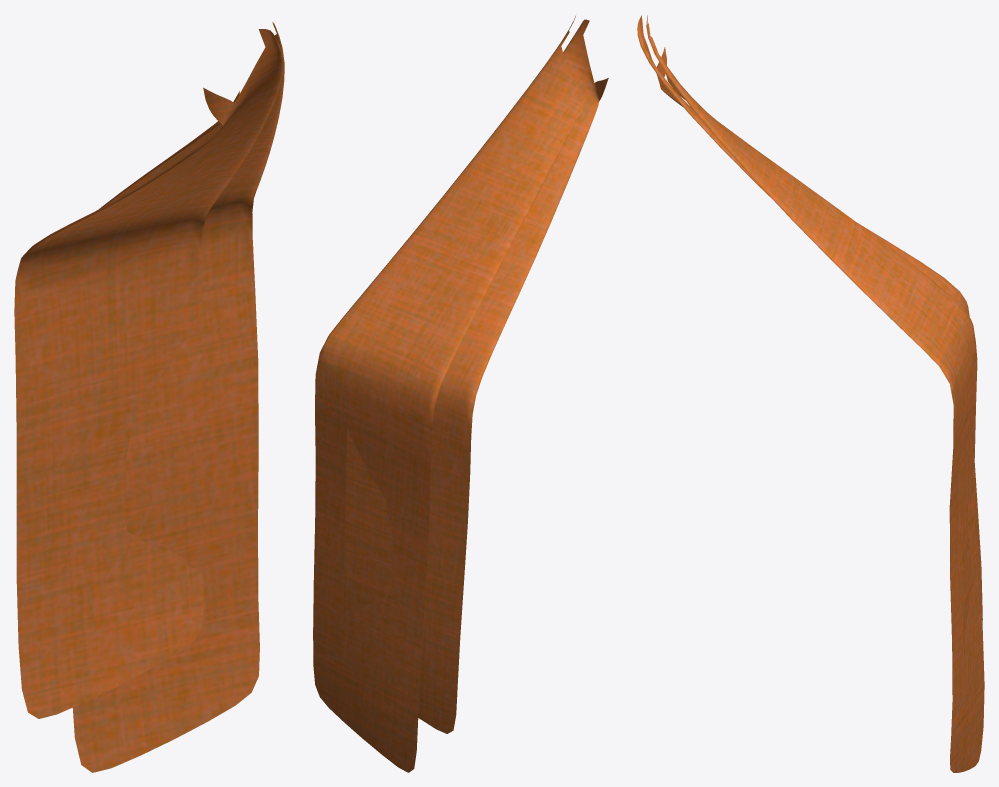
Rendered from ribbon.fbx.
3 renders of one model, left to right at view 1: azimuth 30°, elevation 25°; view 2: azimuth 150°, elevation 25°; view 3: azimuth 270°, elevation 25°, orthographic. The views are drawn at different scales.
Visible parts, largest first — view 1: Cube.004; view 2: Cube.004; view 3: Cube.004.
Part boxes in pixels (x1,y1,x2,y2): Cube.004: (14, 22, 284, 772); Cube.004: (313, 16, 608, 772); Cube.004: (637, 15, 984, 772).
Bounding box in the file's own units: 37.47 × 140 × 59.73.
